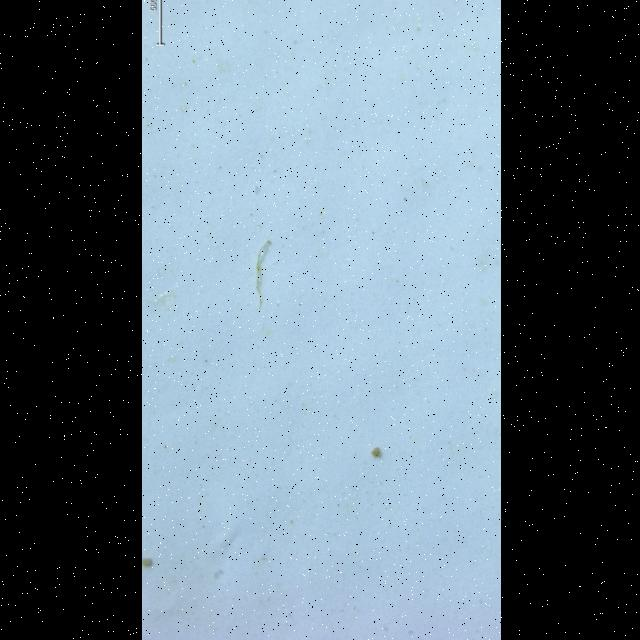Fibre: (255, 241, 270, 309)
Fragment: (370, 448, 380, 458), (140, 558, 150, 567)
